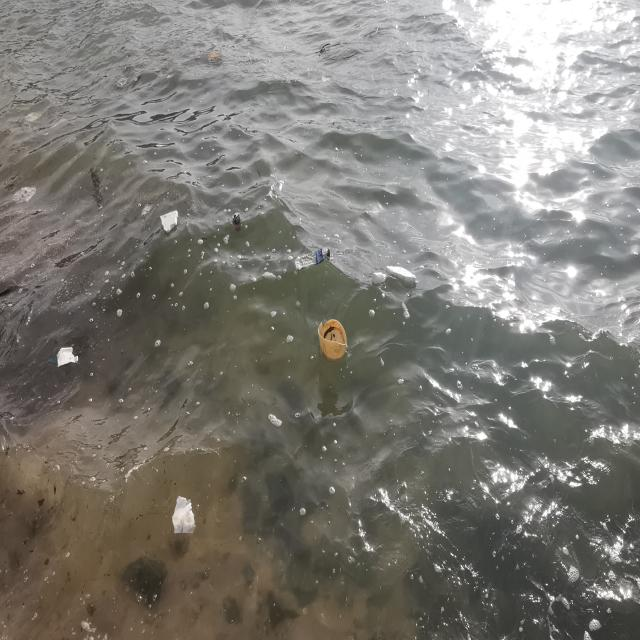can: (232, 211, 242, 232)
foam: (170, 495, 196, 531), (386, 265, 416, 285), (161, 210, 178, 232)
plastic: (293, 247, 330, 272), (371, 272, 387, 284)
plastic bottle: (317, 318, 348, 359), (10, 185, 36, 202)
unknow: (90, 166, 102, 210), (141, 203, 151, 216), (207, 52, 220, 62)
